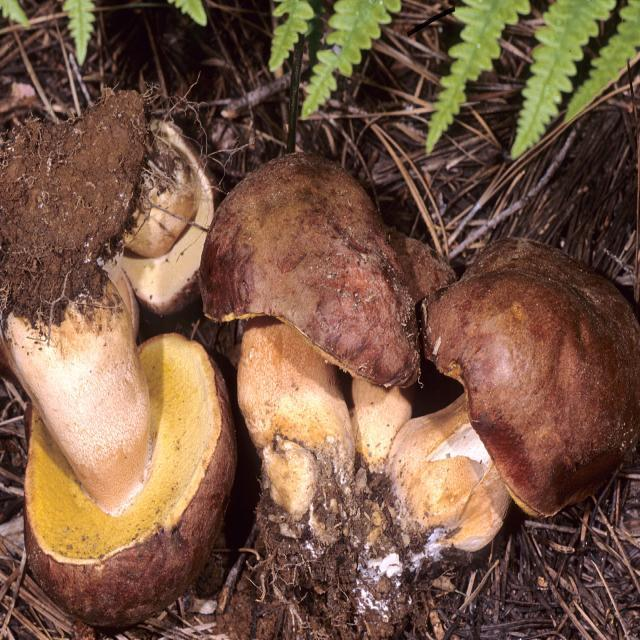Boletus: (207, 157, 638, 552), (7, 290, 239, 623)
